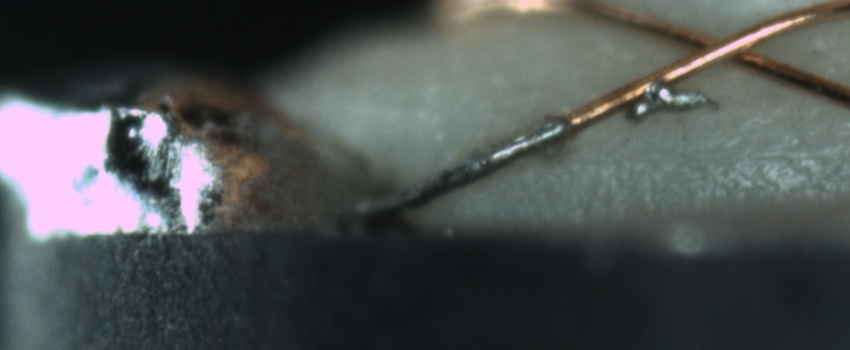CL: (673, 17, 776, 74)
DL: (581, 119, 850, 182)
TS: (351, 116, 571, 219)
